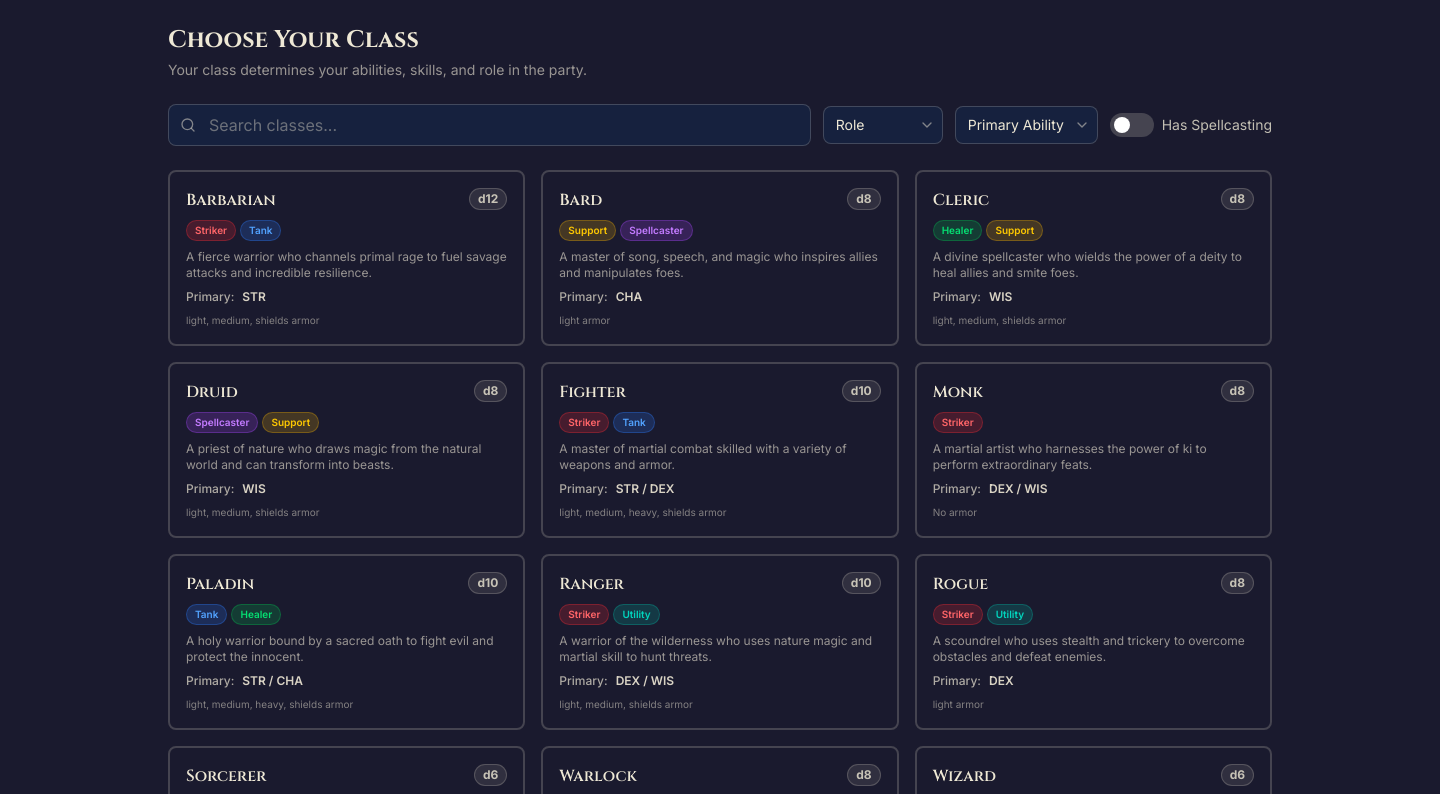
Test: ClassStep › shows skill selector after selecting a class
What coordinates should you click on to do the following:
click the heading "Barbarian"
I would click on:
 (231, 200)
Its box is top-left (186, 188), bottom-right (276, 212).
(page scrolled)
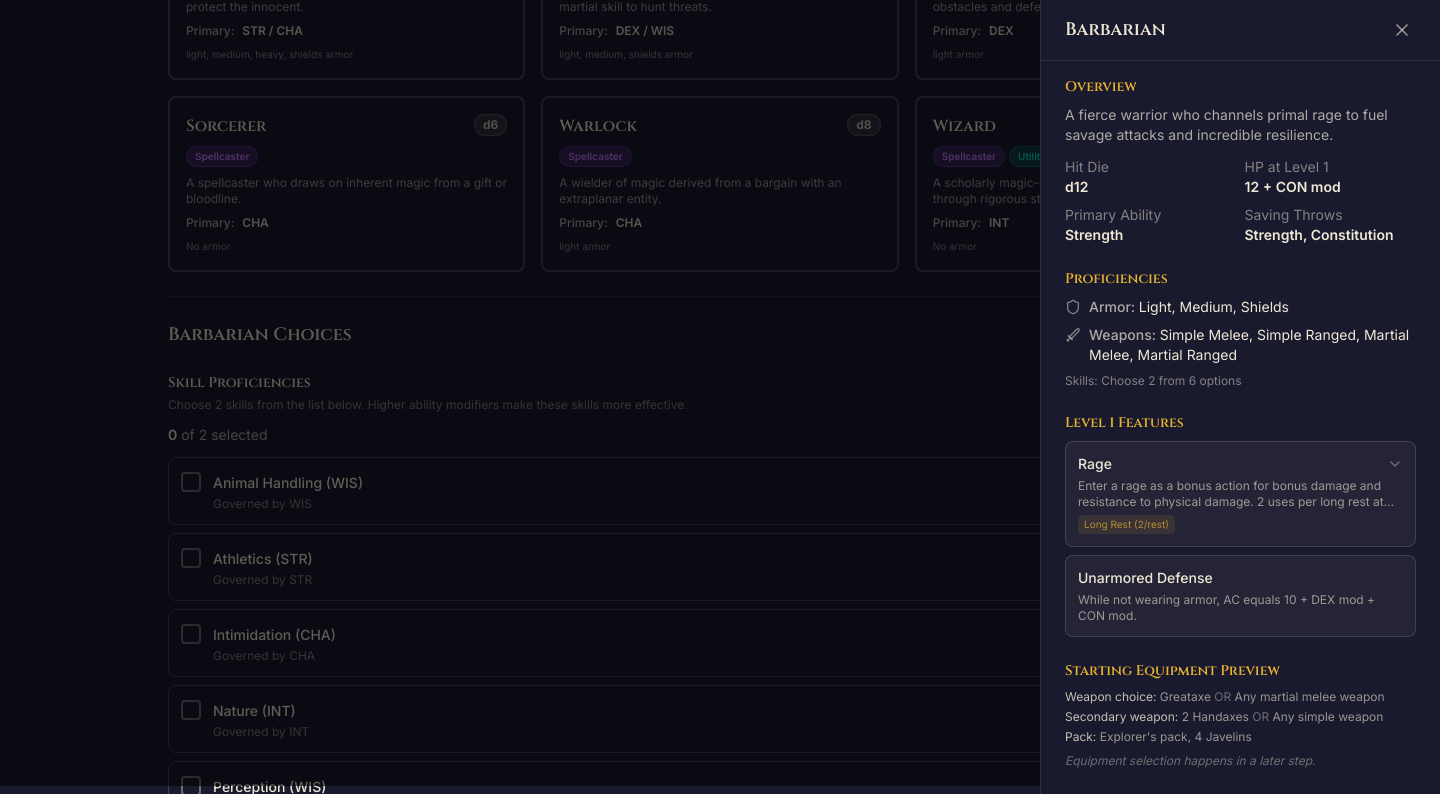
Result: the heading "Skill Proficiencies" is shown at top-left (168, 373), bottom-right (311, 392)
Result: the text "Choose 2 skills" is shown at top-left (168, 397), bottom-right (688, 412)
